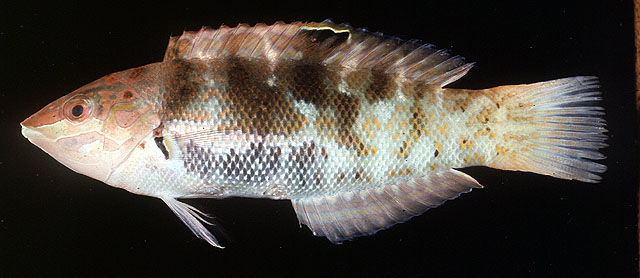fish: (20, 20, 607, 248)
